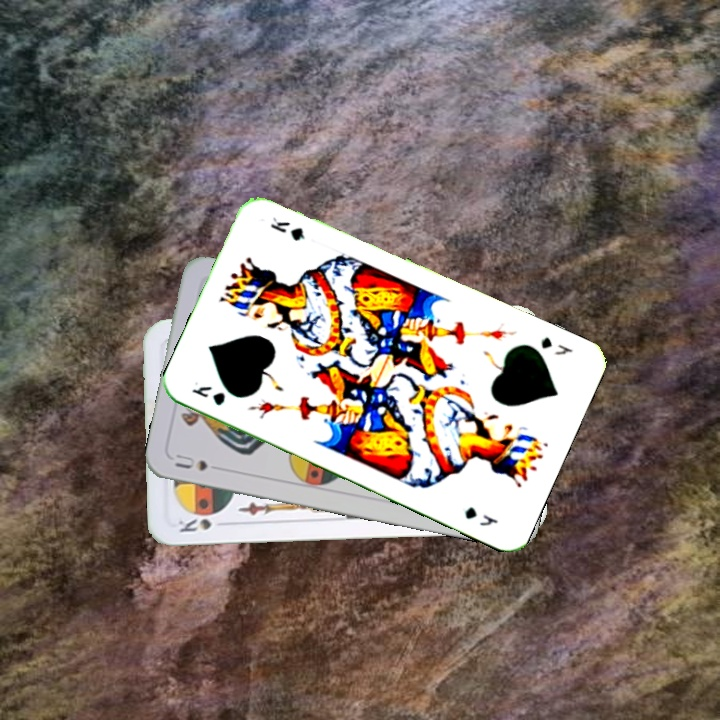GK: (188, 382, 228, 409), (536, 333, 575, 358)
SK: (174, 514, 214, 535)
SU: (171, 450, 210, 474)
